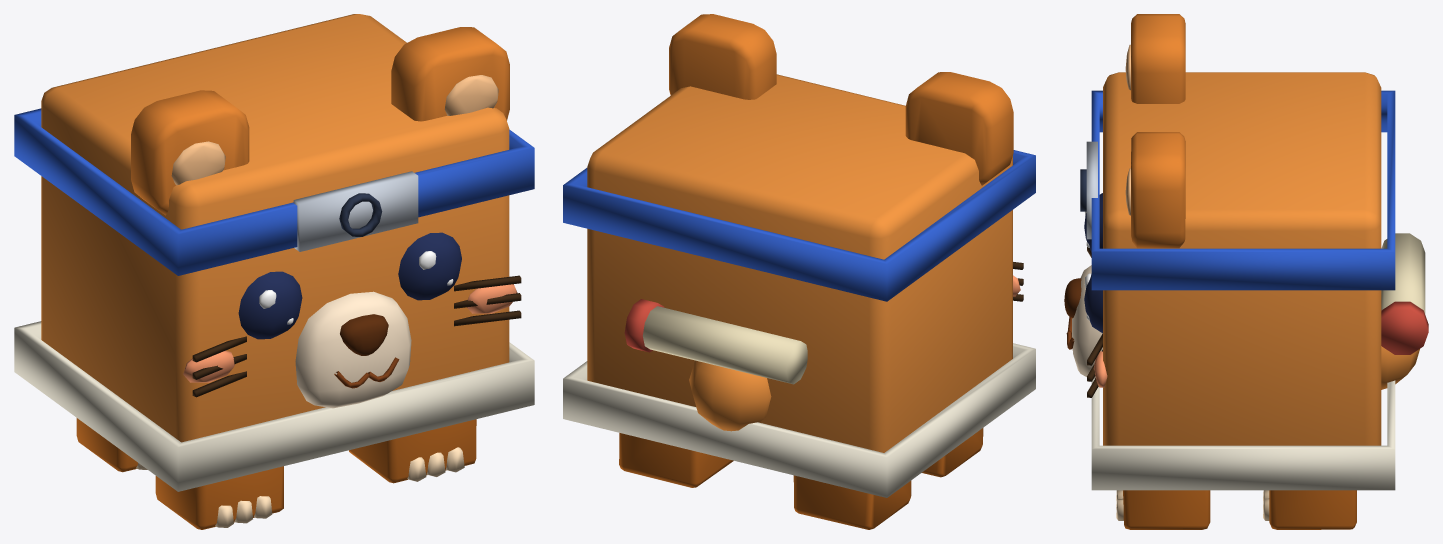
The model's file is Anime_Ninja.fbx.
3 views of the same model, side by side, from view 1: azimuth 30°, elevation 25°; view 2: azimuth 150°, elevation 25°; view 3: azimuth 270°, elevation 25° (orthographic). The views are drawn at different scales.
Parts seen in each view (by area): view 1: Anime_Ninja_body, Anime_Ninja_acc_scarf, Anime_Ninja_acc_headband, Anime_Ninja_ears, Anime_Ninja_feet, Anime_Ninja_muzzle, Anime_Ninja_eyes, Anime_Ninja_acc_plate, Anime_Ninja, Anime_Ninja_toes, Anime_Ninja_cute_innerear_-1, Anime_Ninja_acc_whiskerR (+4 smaller); view 2: Anime_Ninja_body, Anime_Ninja_acc_scarf, Anime_Ninja_acc_headband, Anime_Ninja_ears, Anime_Ninja_feet, Anime_Ninja_acc_scroll, Anime_Ninja_cute_tail, Anime_Ninja_acc_scroll_cap; view 3: Anime_Ninja_body, Anime_Ninja_acc_headband, Anime_Ninja_acc_scarf, Anime_Ninja_ears, Anime_Ninja_feet, Anime_Ninja_acc_scroll, Anime_Ninja_acc_scroll_cap, Anime_Ninja_muzzle, Anime_Ninja_eyes, Anime_Ninja_cute_tail, Anime_Ninja_acc_plate, Anime_Ninja (+3 smaller).
Boxes of the visible parts, x1=… form: Anime_Ninja_body: x1=41, y1=14, x2=509, y2=442; Anime_Ninja_acc_scarf: x1=14, y1=321, x2=534, y2=491; Anime_Ninja_acc_headband: x1=14, y1=108, x2=534, y2=275; Anime_Ninja_ears: x1=131, y1=27, x2=509, y2=215; Anime_Ninja_feet: x1=76, y1=418, x2=476, y2=529; Anime_Ninja_muzzle: x1=295, y1=291, x2=411, y2=408; Anime_Ninja_eyes: x1=238, y1=232, x2=461, y2=339; Anime_Ninja_acc_plate: x1=293, y1=171, x2=418, y2=251; Anime_Ninja: x1=419, y1=75, x2=517, y2=313; Anime_Ninja_toes: x1=136, y1=447, x2=464, y2=527; Anime_Ninja_cute_innerear_-1: x1=171, y1=141, x2=225, y2=185; Anime_Ninja_acc_whiskerR: x1=454, y1=275, x2=521, y2=326; Anime_Ninja_body: x1=587, y1=74, x2=1012, y2=452; Anime_Ninja_acc_scarf: x1=563, y1=343, x2=1035, y2=497; Anime_Ninja_acc_headband: x1=563, y1=150, x2=1035, y2=301; Anime_Ninja_ears: x1=669, y1=14, x2=1013, y2=185; Anime_Ninja_feet: x1=619, y1=428, x2=983, y2=529; Anime_Ninja_acc_scroll: x1=642, y1=306, x2=807, y2=384; Anime_Ninja_cute_tail: x1=689, y1=360, x2=771, y2=431; Anime_Ninja_acc_scroll_cap: x1=624, y1=299, x2=664, y2=352; Anime_Ninja_body: x1=1103, y1=72, x2=1381, y2=445; Anime_Ninja_acc_headband: x1=1091, y1=90, x2=1395, y2=290; Anime_Ninja_acc_scarf: x1=1091, y1=379, x2=1395, y2=490; Anime_Ninja_ears: x1=1131, y1=14, x2=1185, y2=248; Anime_Ninja_feet: x1=1123, y1=490, x2=1356, y2=529; Anime_Ninja_acc_scroll: x1=1381, y1=233, x2=1425, y2=314; Anime_Ninja_acc_scroll_cap: x1=1381, y1=301, x2=1428, y2=354; Anime_Ninja_muzzle: x1=1072, y1=265, x2=1102, y2=378; Anime_Ninja_eyes: x1=1084, y1=193, x2=1102, y2=333; Anime_Ninja_cute_tail: x1=1381, y1=346, x2=1419, y2=389; Anime_Ninja_acc_plate: x1=1086, y1=141, x2=1097, y2=239; Anime_Ninja: x1=1084, y1=168, x2=1130, y2=387.
Size of the model in its own units: 235 by 261 by 224.
